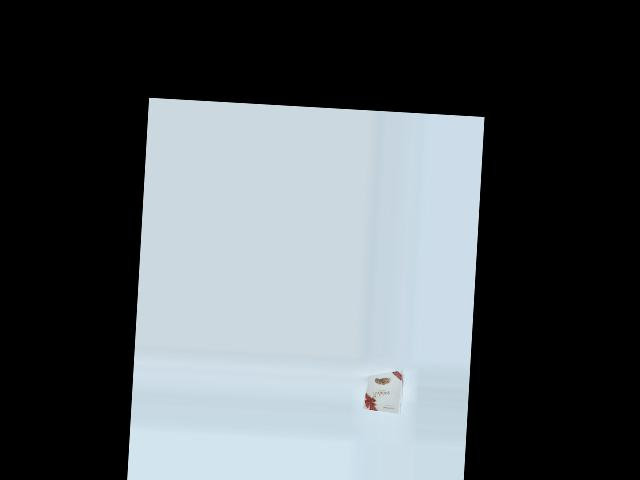chocolate: (362, 366, 412, 413)
